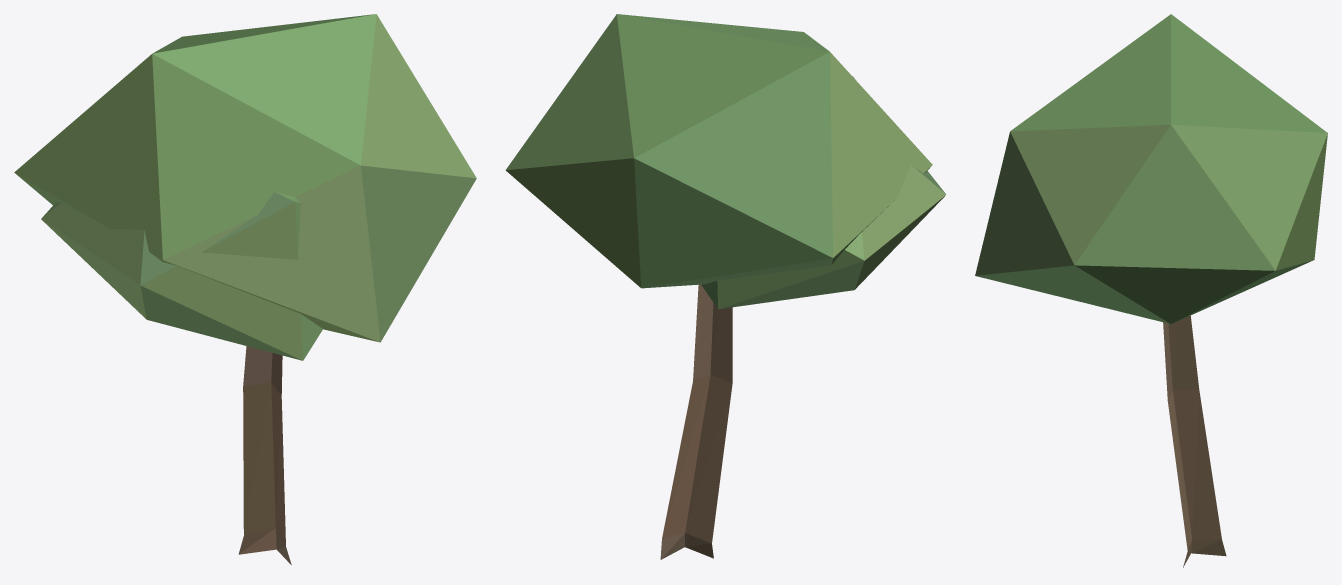
Rendered from Tree_Broadleaf_02_Far.glb.
The picture shows the model from 3 angles, left to right: view 1: azimuth 30°, elevation 25°; view 2: azimuth 150°, elevation 25°; view 3: azimuth 270°, elevation 25°; orthographic projection. The views are drawn at different scales.
Parts seen in each view (by area): view 1: Tree_Broadleaf_02_Far; view 2: Tree_Broadleaf_02_Far; view 3: Tree_Broadleaf_02_Far.
Part boxes in pixels (bbox=[...]): Tree_Broadleaf_02_Far: bbox=[14, 14, 476, 564]; Tree_Broadleaf_02_Far: bbox=[505, 14, 946, 559]; Tree_Broadleaf_02_Far: bbox=[975, 14, 1327, 567].
Size of the model in its own units: 5.86 by 8.67 by 5.65.
